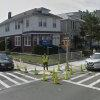Crosswalk: (1, 70, 47, 93)
